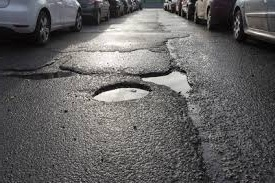pothole: (142, 66, 198, 100), (93, 83, 152, 102)
